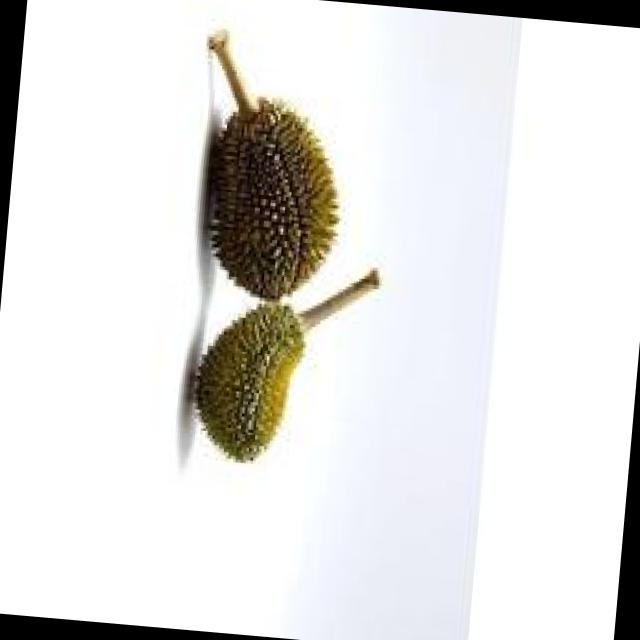fruit: (173, 74, 378, 323), (166, 280, 324, 480)
